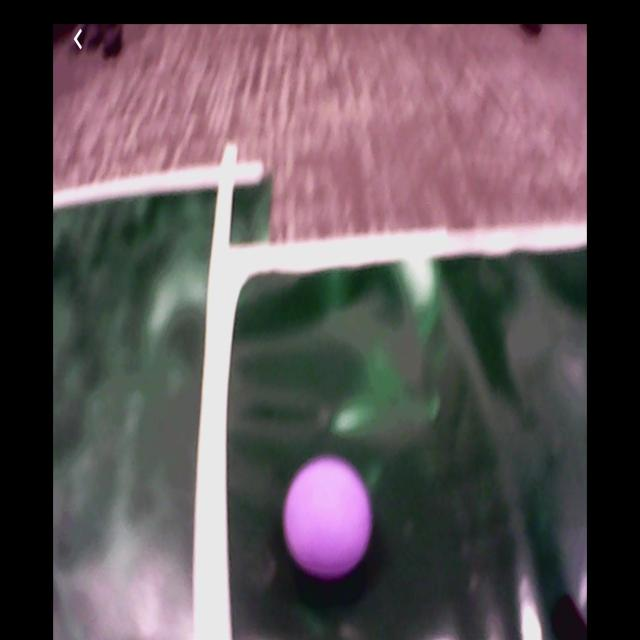ball: (284, 458, 372, 576)
